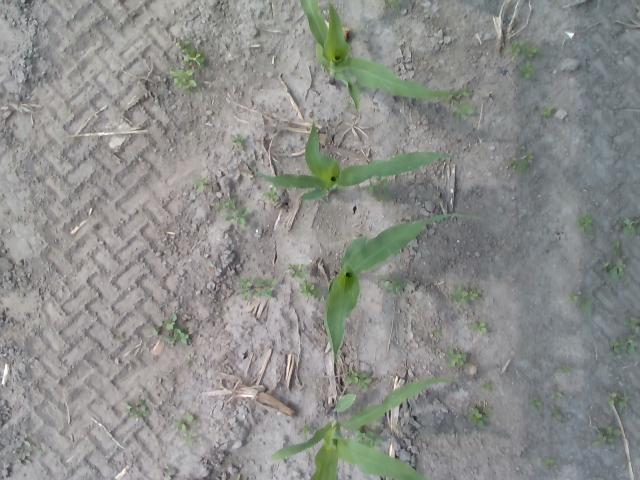Maize: (326, 212, 481, 366), (268, 378, 451, 480), (301, 0, 457, 112), (244, 123, 453, 198)
Weeds: (610, 315, 640, 355), (154, 315, 188, 343), (238, 278, 279, 300), (591, 424, 624, 447), (178, 38, 205, 66), (378, 273, 406, 294), (170, 69, 198, 89), (368, 426, 392, 446), (344, 371, 372, 388), (602, 262, 626, 280), (370, 178, 388, 202), (127, 401, 152, 418), (449, 348, 469, 366), (510, 154, 532, 170), (226, 210, 247, 226), (623, 218, 640, 236), (469, 406, 486, 424), (217, 197, 236, 211), (174, 416, 193, 430), (452, 103, 472, 116), (577, 216, 593, 232), (290, 264, 307, 278), (450, 288, 466, 302), (610, 393, 626, 407), (264, 188, 282, 200), (194, 178, 208, 193), (299, 281, 315, 294), (520, 62, 533, 78), (614, 241, 624, 258), (550, 406, 562, 420), (383, 0, 403, 8), (434, 324, 444, 340), (230, 134, 243, 146), (541, 104, 555, 115), (472, 322, 487, 332), (468, 289, 482, 299), (551, 388, 562, 400), (514, 40, 524, 52), (578, 301, 590, 310), (530, 398, 542, 407), (524, 48, 536, 56), (182, 434, 194, 442), (356, 431, 366, 440), (542, 458, 554, 465), (484, 382, 494, 390), (303, 425, 311, 433), (570, 294, 578, 300), (562, 364, 569, 370)
